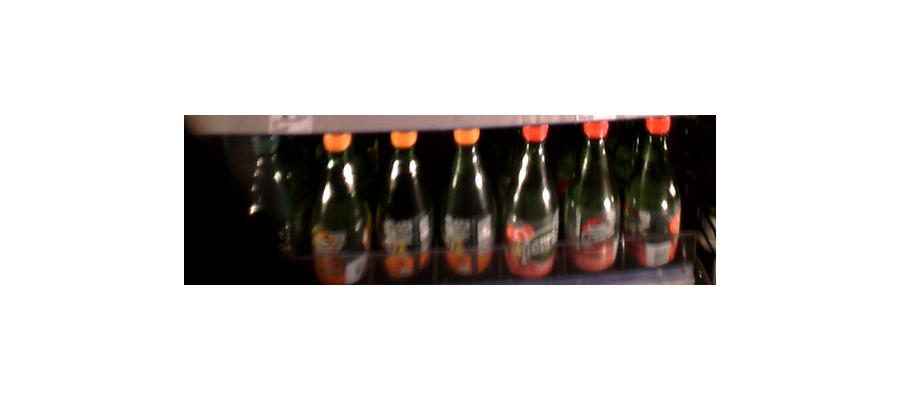bottle: (561, 118, 621, 277), (622, 117, 681, 274), (309, 131, 369, 284), (439, 125, 497, 281), (501, 122, 559, 278), (374, 131, 433, 282), (240, 124, 298, 259)
